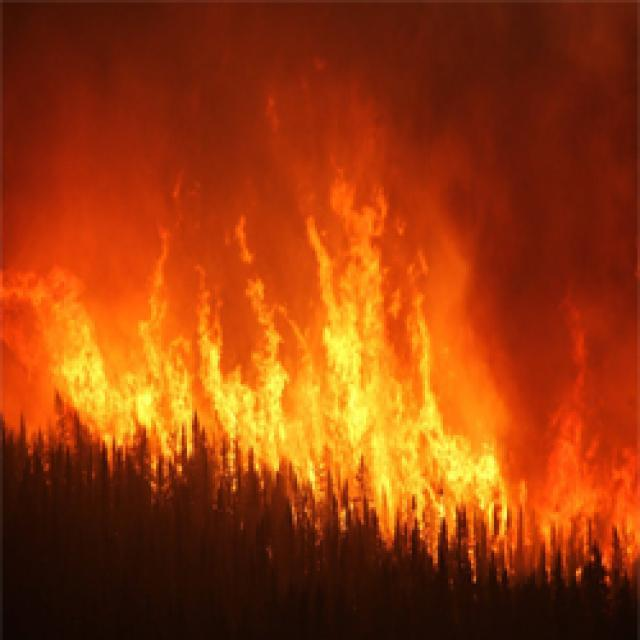Fire: (196, 178, 385, 501), (385, 203, 505, 539), (22, 232, 190, 462), (505, 290, 640, 576)
Smoke: (192, 0, 640, 176), (2, 0, 194, 230), (388, 181, 640, 287)
